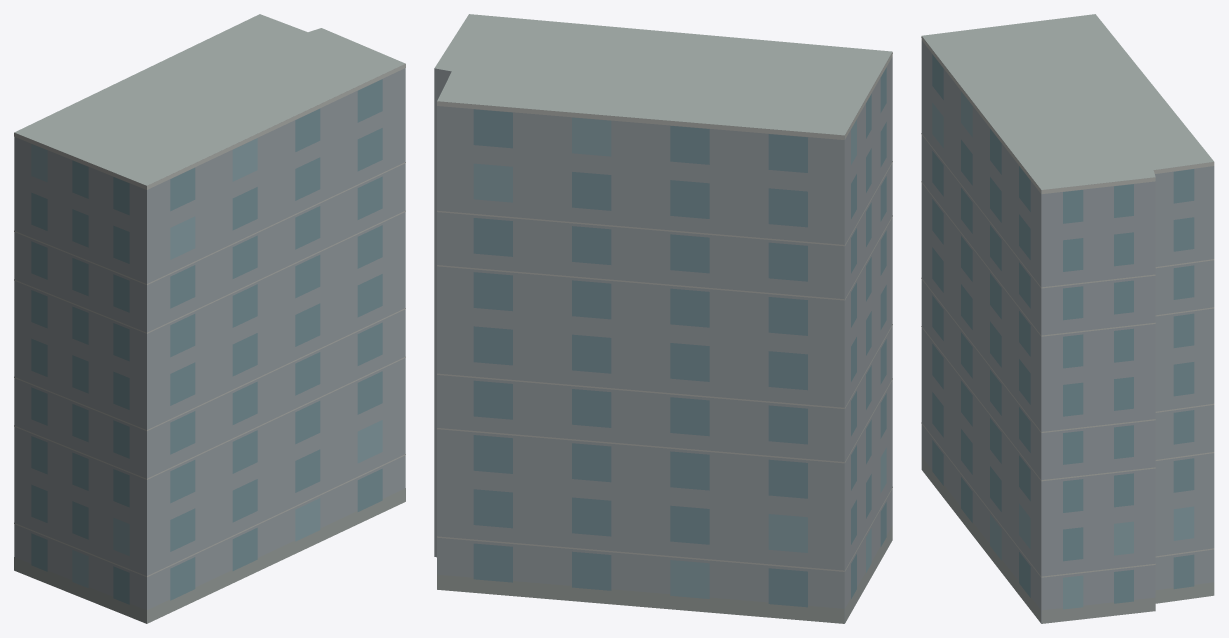
The model's file is survey-upis-32938013.glb.
The picture shows the model from 3 angles, left to right: view 1: azimuth 30°, elevation 25°; view 2: azimuth 150°, elevation 25°; view 3: azimuth 270°, elevation 25°; orthographic projection. The views are drawn at different scales.
Visible parts, largest first — view 1: survey-upis-32938013.tmp; view 2: survey-upis-32938013.tmp; view 3: survey-upis-32938013.tmp.
Boxes of the visible parts, x1,y1,x2,y2 form: survey-upis-32938013.tmp: [14, 14, 405, 623]; survey-upis-32938013.tmp: [434, 14, 892, 623]; survey-upis-32938013.tmp: [921, 14, 1214, 623].
Bounding box in the file's own units: 21.95 × 25.2 × 15.44.
